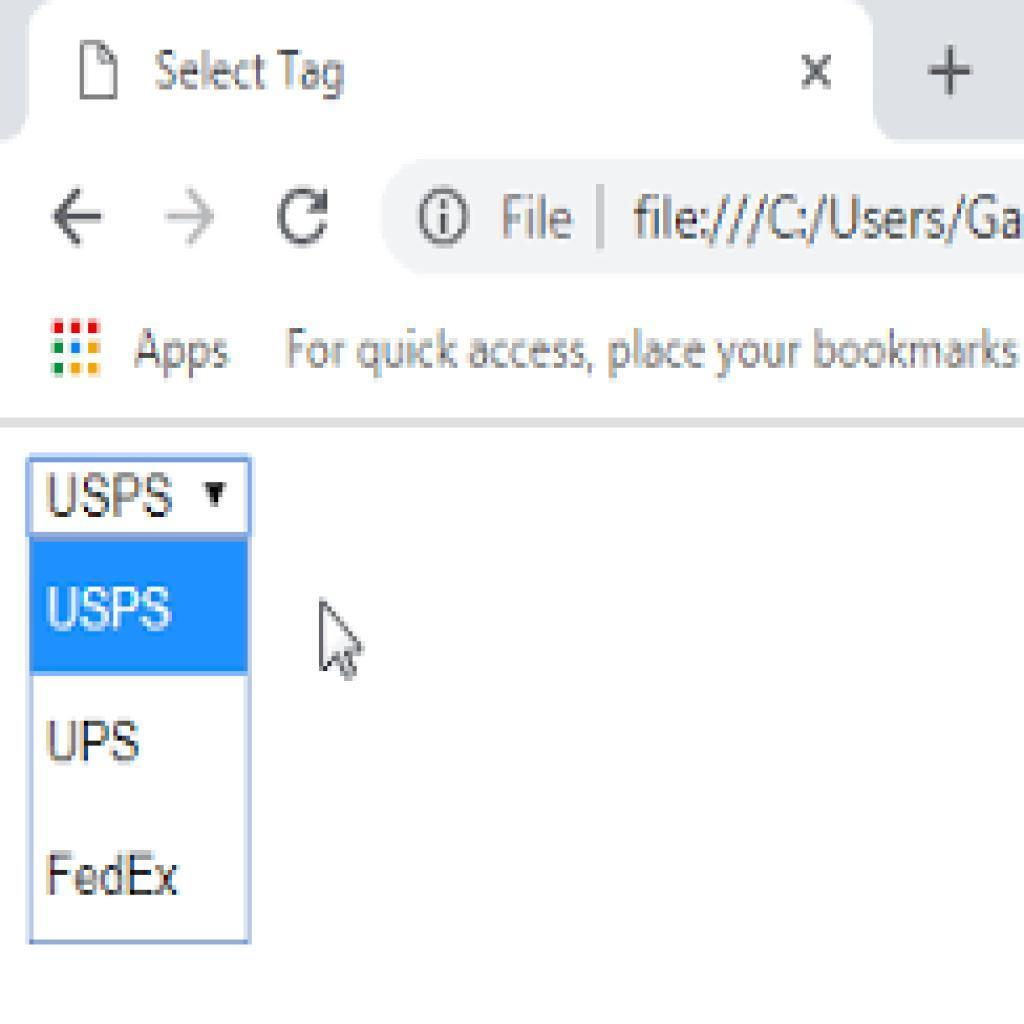dropdown: (33, 456, 247, 535)
